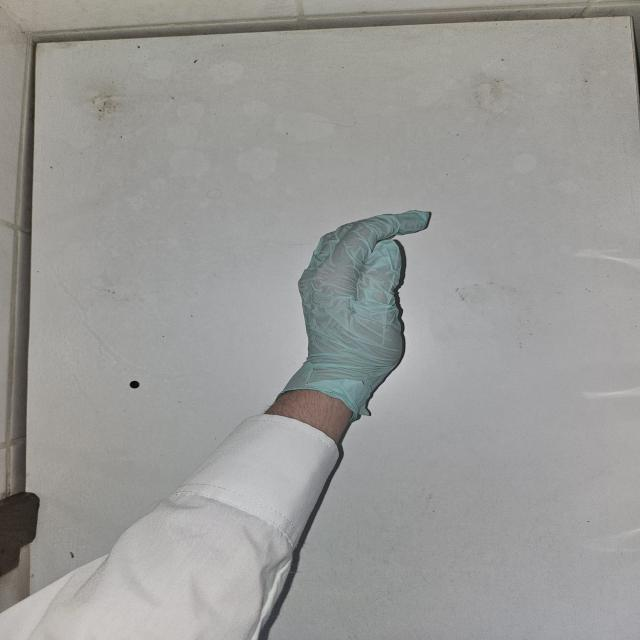gloves_damaged: (277, 209, 432, 422)
